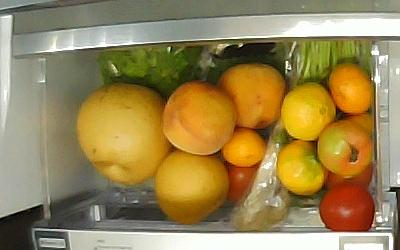peach: (163, 80, 237, 156), (216, 62, 285, 130)
pear: (77, 83, 171, 184), (156, 148, 228, 224)
tangerine: (281, 81, 336, 141), (276, 140, 327, 196), (328, 63, 374, 115), (221, 127, 266, 167), (345, 112, 374, 134)
tomato: (316, 119, 375, 178), (319, 185, 375, 233), (225, 161, 261, 202), (325, 162, 374, 187)
